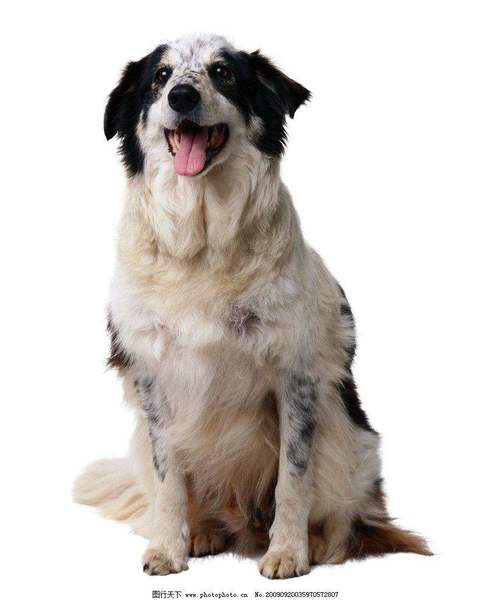dog: (96, 18, 338, 230)
